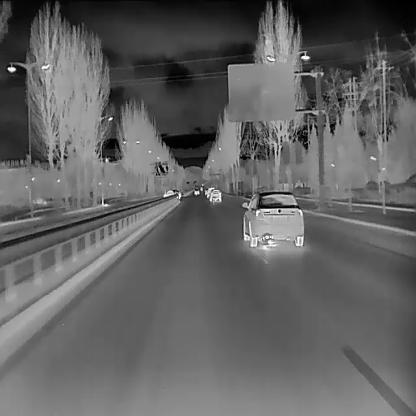car: (241, 189, 304, 246), (162, 187, 181, 199), (208, 188, 221, 200), (206, 186, 215, 198), (192, 187, 200, 193), (204, 187, 206, 195), (200, 185, 202, 190), (202, 183, 204, 186)
